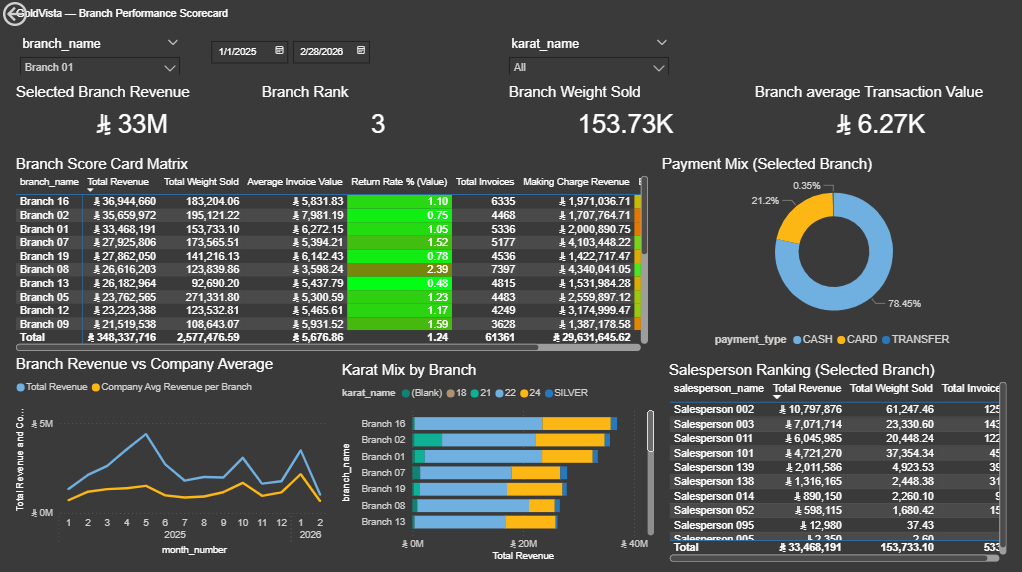

Layout of this report page (visuals, bound fields, positions):
{"tool":"powerbi","page":{"name":"Branch Performance","canvas":[1280,720],"ordinal":1},"visuals":[{"type":"textbox","box":[16,6,600,32],"z":0},{"type":"card","title":"Selected Branch Revenue","fields":{"Values":["_Measures.Total Revenue"]},"box":[16,106,300,80],"z":1000},{"type":"card","title":"Branch Rank","fields":{"Values":["_Measures.Branch Rank"]},"box":[324,106,300,80],"z":2000},{"type":"card","title":"Branch Weight Sold","fields":{"Values":["_Measures.Total Weight Sold"]},"box":[632,106,300.7,80],"z":3000},{"type":"slicer","fields":{"Values":["public dim_branch.branch_name"]},"box":[16,44,220,52],"z":4000},{"type":"card","title":"Branch average Transaction Value","fields":{"Values":["_Measures.Average Invoice Value"]},"box":[940,106,324,80],"z":5000},{"type":"pivotTable","title":"Branch Score Card Matrix","fields":{"Rows":["public dim_branch.branch_name"],"Values":["_Measures.Total Revenue","_Measures.Total Weight Sold","_Measures.Average Invoice Value","_Measures.Return Rate % (Value)","_Measures.Total Invoices","_Measures.Making Charge Revenue","_Measures.Branch Period Growth %"]},"box":[16,196,800,250],"z":6000},{"type":"lineChart","title":"Branch Revenue vs Company Average","fields":{"Category":["public dim_date.year","public dim_date.month_number"],"Y":["_Measures.Total Revenue","_Measures.Company Avg Revenue per Branch"]},"box":[16.8,446.8,399.8,255.3],"z":7000},{"type":"barChart","title":"Karat Mix by Branch","fields":{"Category":["public dim_branch.branch_name"],"Series":["public dim_karat.karat_name"],"Y":["_Measures.Total Revenue"]},"box":[424,454,400,256],"z":8000},{"type":"donutChart","title":"Payment Mix (Selected Branch)","fields":{"Category":["public dim_payment_mode.payment_type"],"Y":["_Measures.Payment Amount"]},"box":[824,196,440,250],"z":9000},{"type":"tableEx","title":"Salesperson Ranking (Selected Branch)","fields":{"Values":["public dim_salesperson.salesperson_name","_Measures.Total Revenue","_Measures.Total Weight Sold","_Measures.Total Invoices"]},"box":[833,454,432,256],"z":10000},{"type":"slicer","fields":{"Values":["public dim_date.date_key"]},"box":[252,44,360,52.1],"z":11000},{"type":"slicer","fields":{"Values":["public dim_karat.karat_name"]},"box":[628,44,220,52],"z":12000},{"type":"actionButton","box":[0,0,100,40],"z":13000}]}

Visuals, with their boxes on the page's 1280x720 design canvas (x1, y1, x2, y2). These are canvas units, not pixel positions in the 1022x572 screenshot, which may show the page scaled, cropped or inside an application window:
textbox: (x1=16, y1=6, x2=616, y2=38)
"Selected Branch Revenue" card: (x1=16, y1=106, x2=316, y2=186)
"Branch Rank" card: (x1=324, y1=106, x2=624, y2=186)
"Branch Weight Sold" card: (x1=632, y1=106, x2=933, y2=186)
slicer - public dim_branch.branch_name: (x1=16, y1=44, x2=236, y2=96)
"Branch average Transaction Value" card: (x1=940, y1=106, x2=1264, y2=186)
"Branch Score Card Matrix" pivotTable: (x1=16, y1=196, x2=816, y2=446)
"Branch Revenue vs Company Average" lineChart: (x1=17, y1=447, x2=417, y2=702)
"Karat Mix by Branch" barChart: (x1=424, y1=454, x2=824, y2=710)
"Payment Mix (Selected Branch)" donutChart: (x1=824, y1=196, x2=1264, y2=446)
"Salesperson Ranking (Selected Branch)" tableEx: (x1=833, y1=454, x2=1265, y2=710)
slicer - public dim_date.date_key: (x1=252, y1=44, x2=612, y2=96)
slicer - public dim_karat.karat_name: (x1=628, y1=44, x2=848, y2=96)
actionButton: (x1=0, y1=0, x2=100, y2=40)
